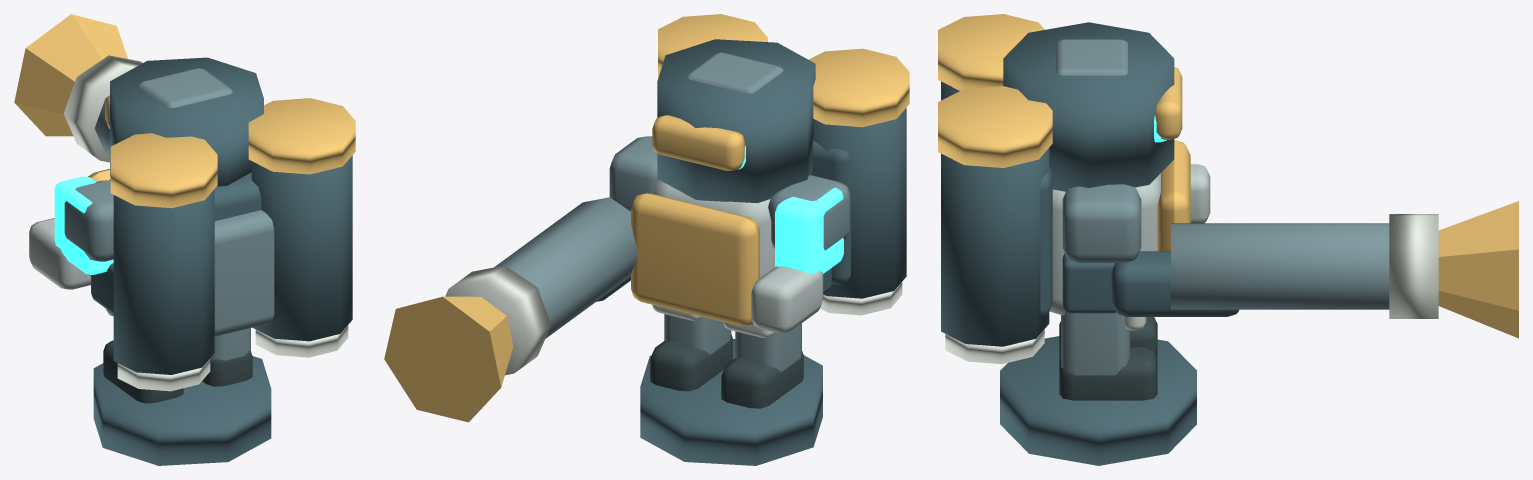
The model's file is flamer.glb.
The picture shows the model from 3 angles, left to right: view 1: azimuth 30°, elevation 25°; view 2: azimuth 150°, elevation 25°; view 3: azimuth 270°, elevation 25°; orthographic projection. The views are drawn at different scales.
Visible parts, largest first — view 1: Fuel pressure cylinder, Fuel pressure cylinder.001, Boot platform, Sealed helmet, Flame projector, Cylinder shoulder, Cylinder shoulder.001, Backpack, Nozzle collar, Shoulder pauldron, Helmet crown plate, Forearm gauntlet (+9 smaller); view 2: Sealed helmet, Heat shield chest, Boot platform, Flame projector, Fuel pressure cylinder, Ignition lance, Cylinder shoulder, Nozzle collar, Heat warning tab, Forearm gauntlet, Amber visor, Armored boot (+10 smaller); view 3: Ignition lance, Sealed helmet, Fuel pressure cylinder.001, Boot platform, Flame projector, Cylinder shoulder.001, Shoulder pauldron.001, Cylinder shoulder, Nozzle collar, Flamer grip, Lower leg greave.001, Armored boot.001 (+9 smaller).
Boxes of the visible parts, left/top/right/bottom form: Fuel pressure cylinder: left=113, top=189, right=214, bottom=374; Fuel pressure cylinder.001: left=251, top=155, right=352, bottom=341; Boot platform: left=93, top=356, right=271, bottom=465; Sealed helmet: left=110, top=57, right=263, bottom=186; Flame projector: left=14, top=14, right=127, bottom=136; Cylinder shoulder: left=110, top=133, right=217, bottom=208; Cylinder shoulder.001: left=248, top=98, right=355, bottom=174; Backpack: left=214, top=210, right=274, bottom=336; Nozzle collar: left=63, top=55, right=142, bottom=162; Shoulder pauldron: left=64, top=180, right=113, bottom=261; Helmet crown plate: left=138, top=68, right=232, bottom=108; Forearm gauntlet: left=29, top=218, right=90, bottom=289; Sealed helmet: left=657, top=39, right=815, bottom=203; Heat shield chest: left=631, top=193, right=759, bottom=325; Boot platform: left=640, top=339, right=822, bottom=465; Flame projector: left=384, top=296, right=513, bottom=422; Fuel pressure cylinder: left=813, top=108, right=906, bottom=298; Ignition lance: left=494, top=197, right=638, bottom=338; Cylinder shoulder: left=808, top=48, right=909, bottom=127; Nozzle collar: left=445, top=265, right=551, bottom=375; Heat warning tab: left=775, top=187, right=843, bottom=273; Forearm gauntlet: left=751, top=266, right=823, bottom=332; Amber visor: left=652, top=115, right=744, bottom=170; Armored boot: left=721, top=351, right=803, bottom=408; Ignition lance: left=1171, top=223, right=1389, bottom=309; Sealed helmet: left=1003, top=22, right=1174, bottom=191; Fuel pressure cylinder.001: left=941, top=148, right=1049, bottom=346; Boot platform: left=1000, top=336, right=1196, bottom=465; Flame projector: left=1438, top=201, right=1518, bottom=338; Cylinder shoulder.001: left=938, top=86, right=1052, bottom=167; Shoulder pauldron.001: left=1062, top=184, right=1141, bottom=262; Cylinder shoulder: left=938, top=14, right=1044, bottom=90; Nozzle collar: left=1389, top=214, right=1438, bottom=318; Flamer grip: left=1111, top=251, right=1238, bottom=316; Lower leg greave.001: left=1061, top=312, right=1129, bottom=375; Armored boot.001: left=1059, top=347, right=1157, bottom=400.
Size of the model in its own units: 0.4859 by 0.6225 by 0.8846.
